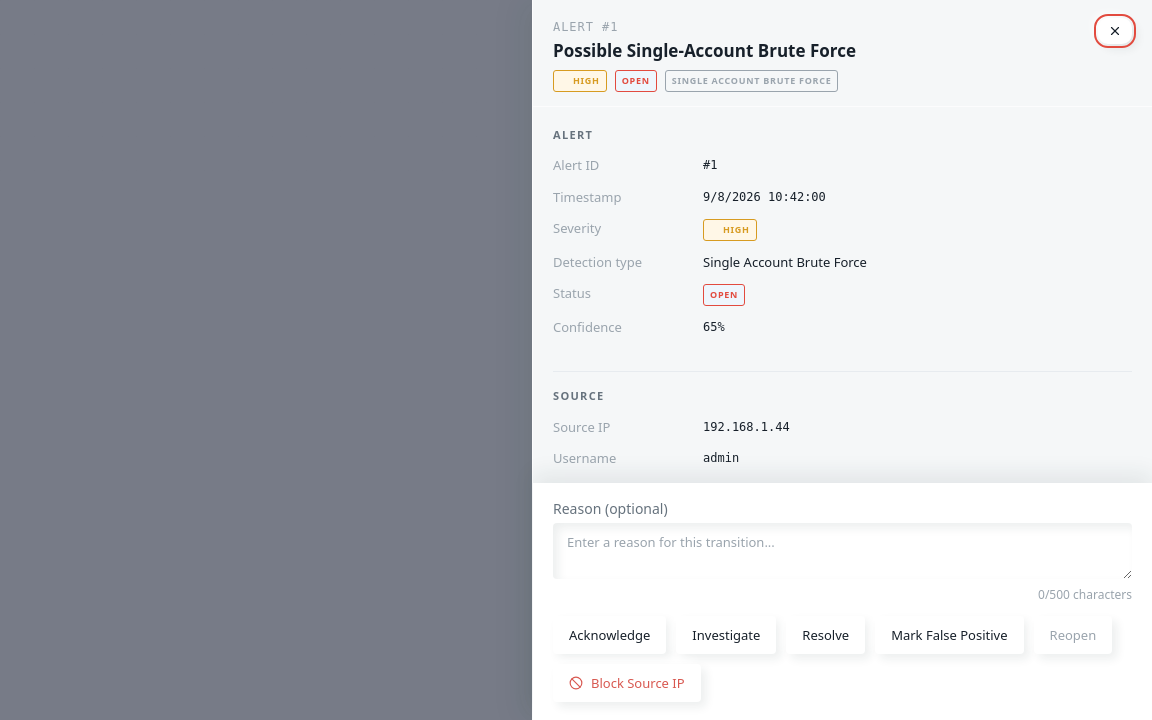
Test: AlertDetailPanel actions › reports a failed block without claiming success
Click the button "Block Source IP": (627,683) [553, 664, 701, 702]
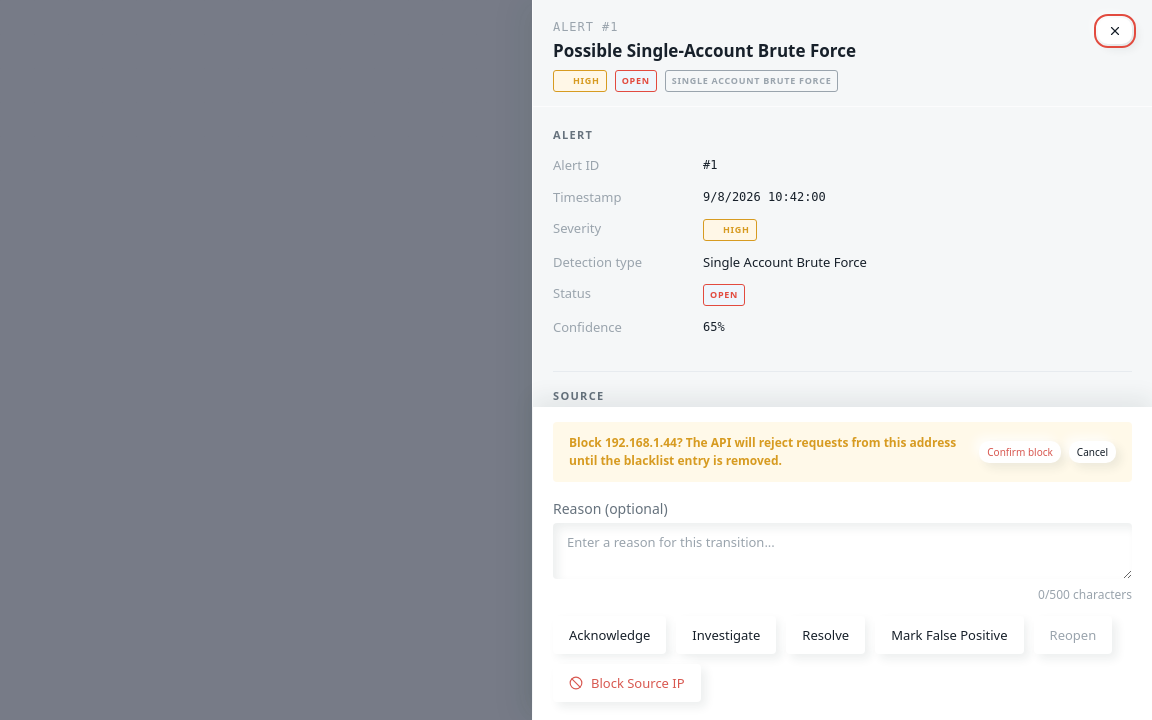
Click the button "Confirm block": (1020,452) [979, 441, 1061, 463]
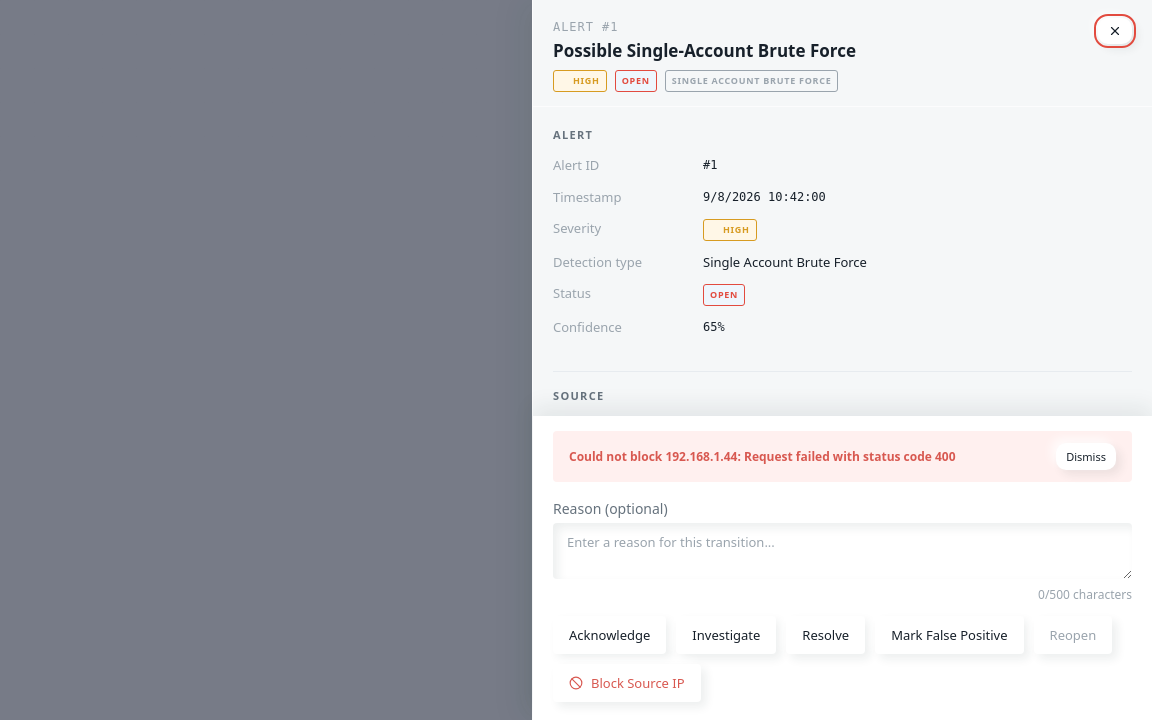
Expected: the message shows "Could not block 192.168.1.44", [569, 448, 956, 464]
